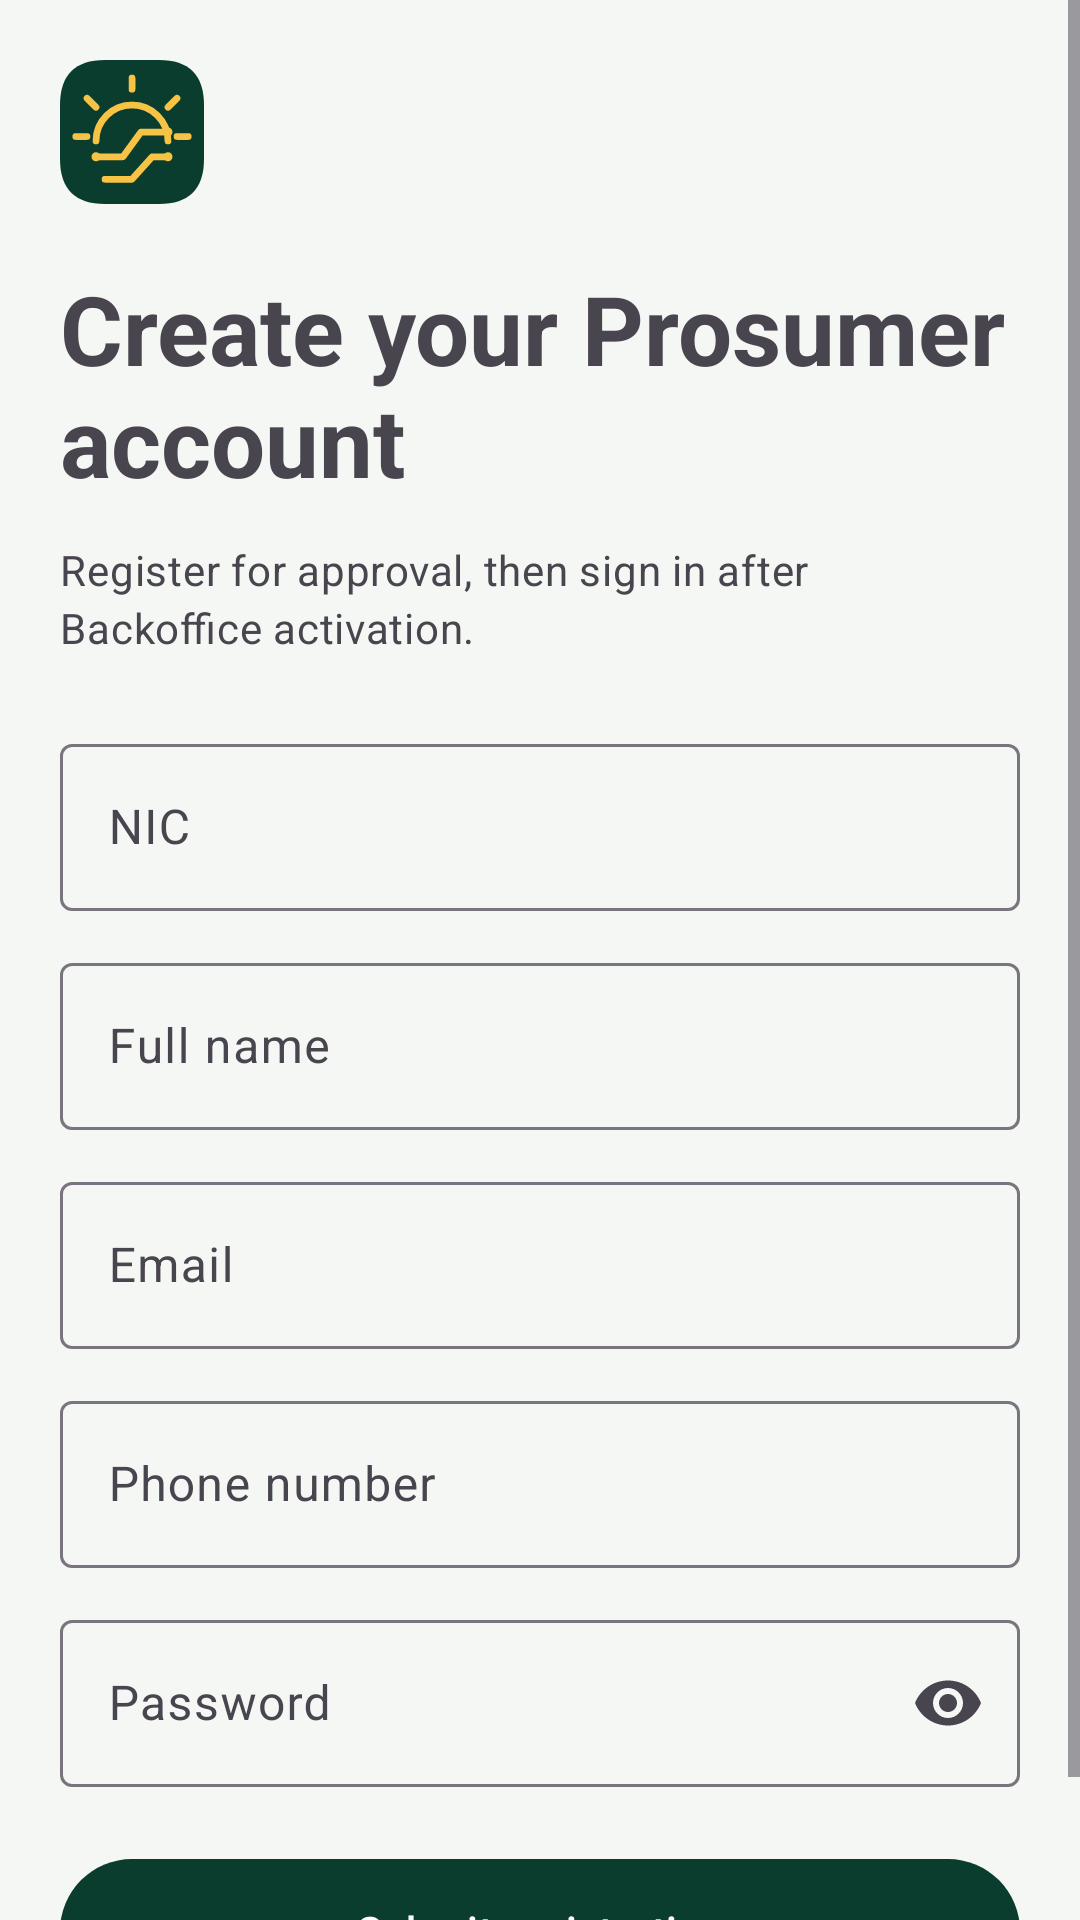

Named icons in this screenshot (1080*1920) and their bounding boxes, (x1, y1, x2, y2):
Smart Solar: (60, 60, 204, 204)
